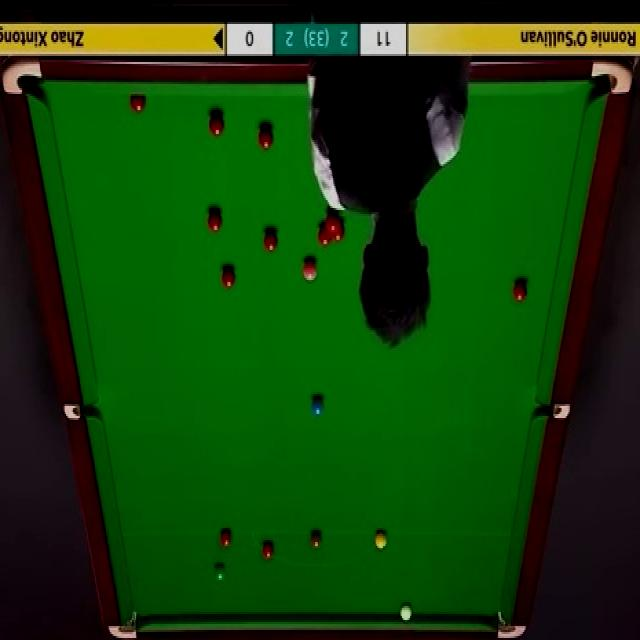blue-ball: (310, 396, 325, 416)
brown-ball: (310, 532, 322, 552)
green-ball: (214, 562, 228, 584)
pink-ball: (301, 256, 318, 281)
red-ball: (220, 265, 236, 291), (513, 275, 528, 302), (209, 205, 223, 232), (210, 111, 224, 138), (263, 230, 278, 254), (259, 128, 274, 151), (332, 218, 346, 242), (130, 95, 146, 115), (261, 541, 276, 562), (318, 222, 331, 246), (324, 210, 340, 229), (218, 530, 232, 547)
white-ball: (401, 604, 413, 621)
yellow-ball: (374, 531, 388, 549)
